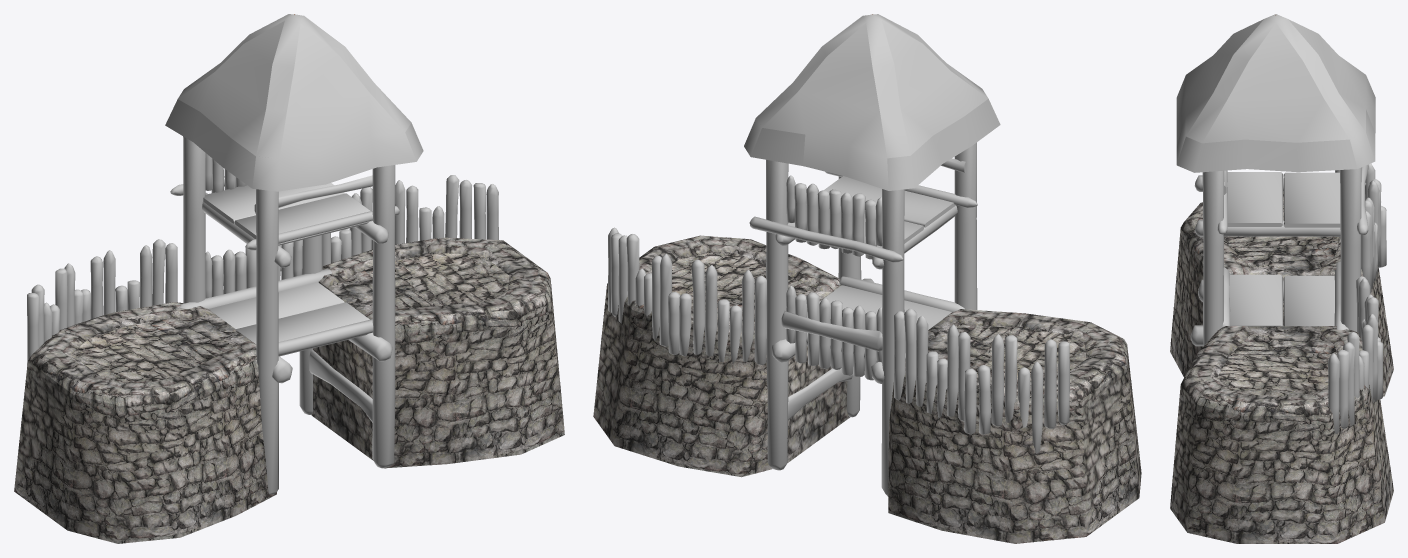
Rendered from TowerGate_1b.fbx.
The picture shows the model from 3 angles, left to right: view 1: azimuth 30°, elevation 25°; view 2: azimuth 150°, elevation 25°; view 3: azimuth 270°, elevation 25°; orthographic projection. The views are drawn at different scales.
Parts seen in each view (by area): view 1: Cube_5, Cylinder_1, Cube; view 2: Cube_5, Cylinder_1, Cube; view 3: Cube_5, Cylinder_1, Cube.
Part boxes in pixels (<box>): Cube_5: <box>14,237,564,543</box>; Cylinder_1: <box>27,136,498,494</box>; Cube: <box>165,14,423,191</box>; Cube_5: <box>593,235,1141,543</box>; Cylinder_1: <box>608,142,1069,496</box>; Cube: <box>744,14,1000,190</box>; Cube_5: <box>1170,192,1393,543</box>; Cylinder_1: <box>1190,163,1386,433</box>; Cube: <box>1176,14,1375,172</box>.
Size of the model in its own units: 1853 by 1582 by 770.
